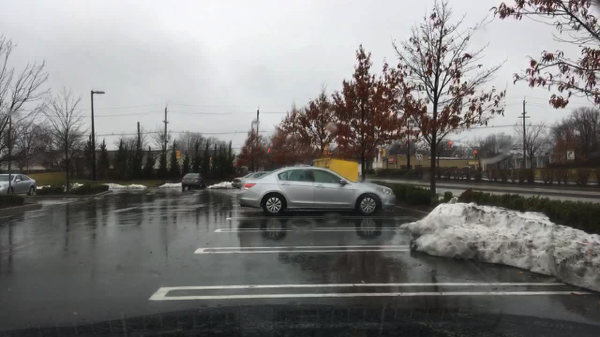car: (235, 164, 397, 216), (0, 173, 37, 197), (180, 173, 207, 191), (231, 172, 259, 187), (242, 172, 265, 180)
traffic light: (447, 139, 454, 150), (382, 149, 386, 160), (176, 149, 180, 160), (473, 149, 477, 159), (266, 147, 270, 155), (327, 148, 330, 156), (404, 138, 405, 147)
traffic sign: (565, 150, 574, 161), (415, 154, 422, 162)
truck: (312, 157, 358, 182)
